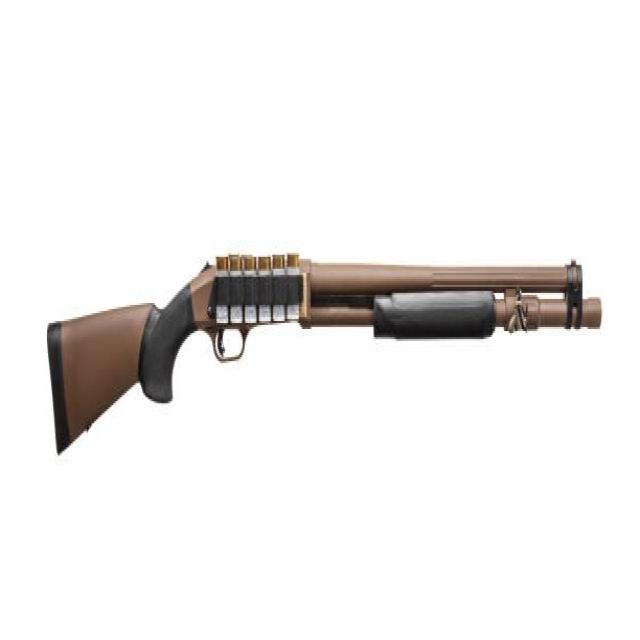rifle: (45, 248, 606, 463)
